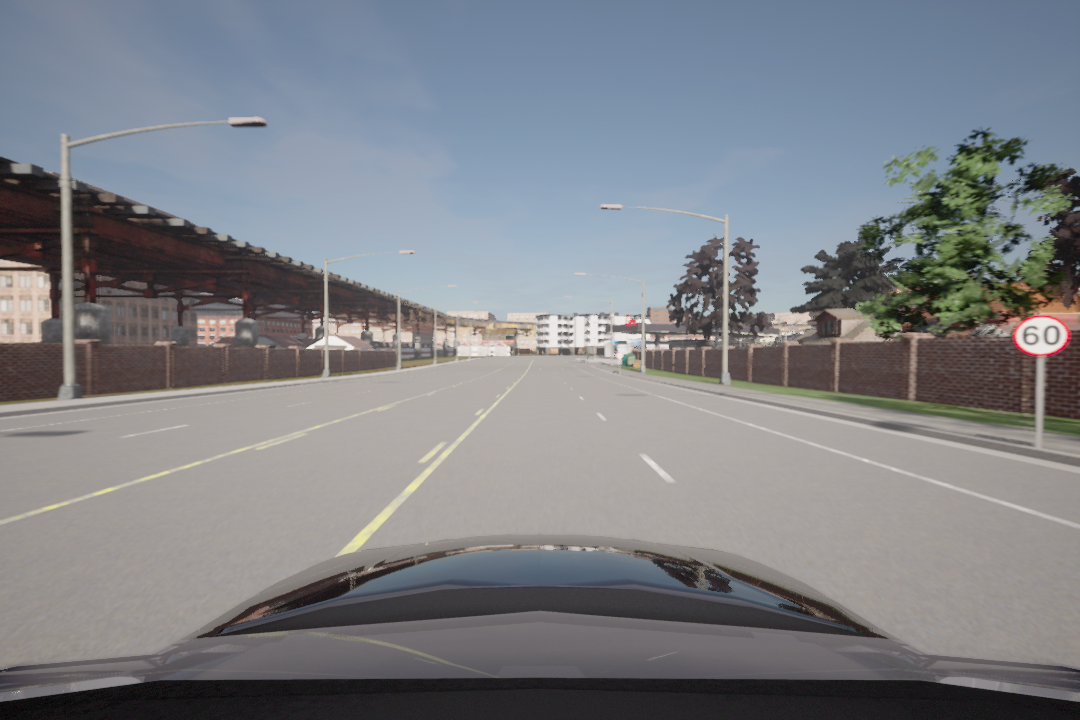TrafficSign_speed: (1012, 311, 1070, 357)
